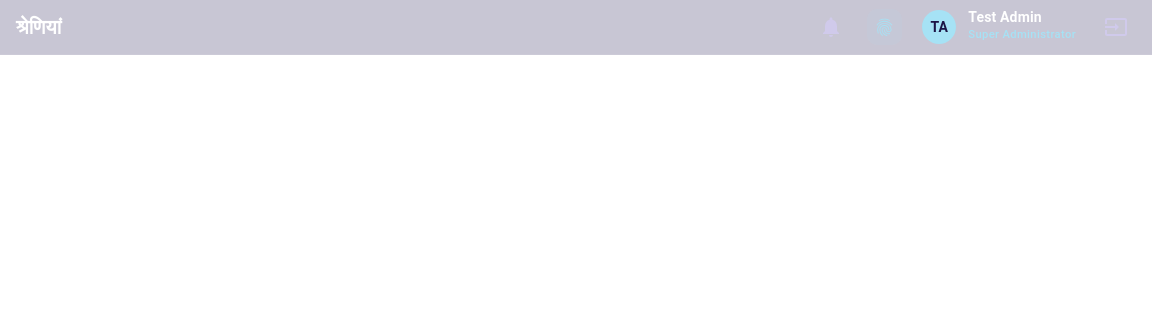
it: Header Component › renders translated text in Hindi when language is hi
Click the element with test id "user-detail-trigger" at (999, 27), box [918, 5, 1080, 49]
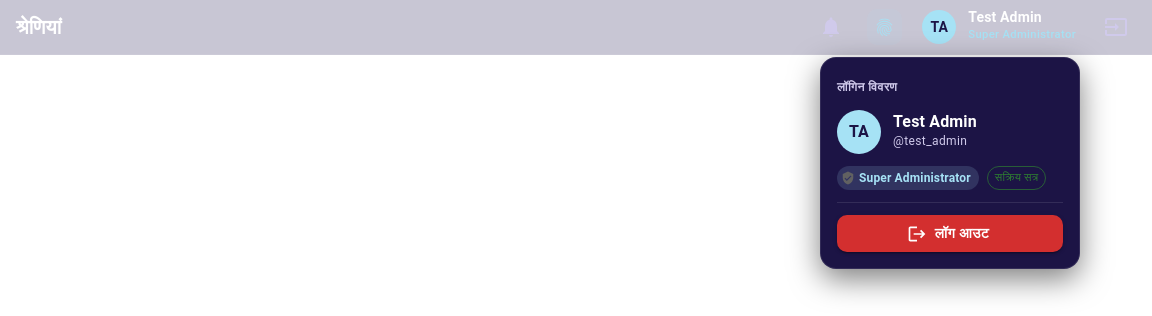
Expected: the text "लॉगिन विवरण" is shown, [837, 80, 897, 94]
